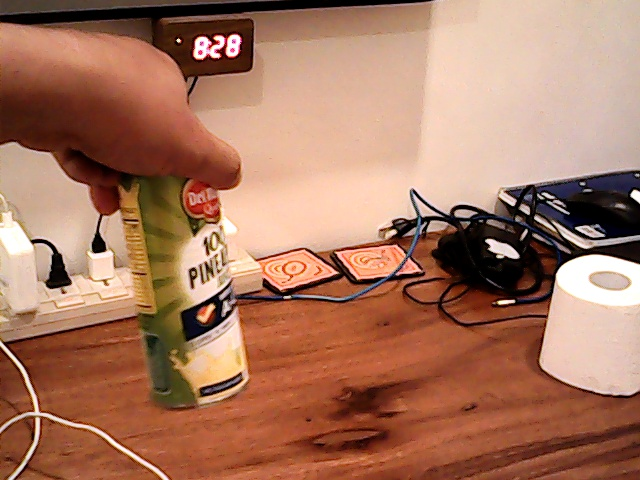Pine Juice: (111, 167, 257, 410)
